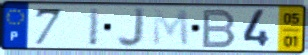4: (241, 8, 275, 51)
7: (31, 7, 66, 46)
B: (200, 8, 238, 49)
I: (87, 7, 102, 48)
J: (115, 6, 148, 50)
M: (151, 8, 191, 48)
